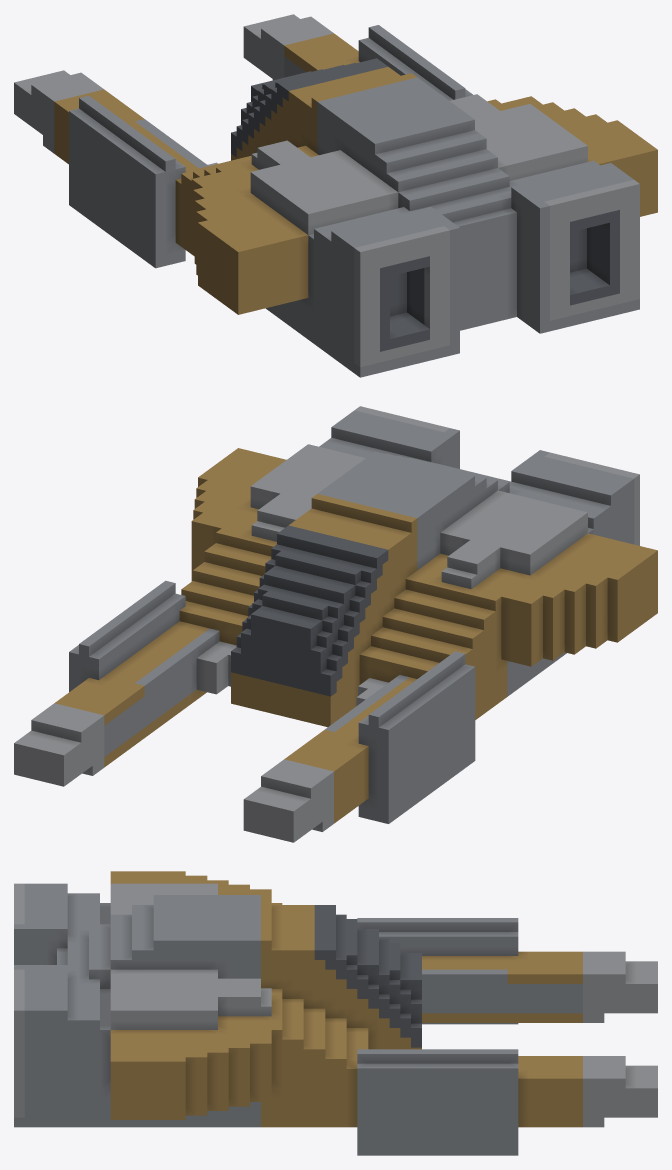
The model's file is miner_ship.glb.
The picture shows the model from 3 angles, top to bottom: view 1: azimuth 30°, elevation 25°; view 2: azimuth 150°, elevation 25°; view 3: azimuth 270°, elevation 25°; orthographic projection. The views are drawn at different scales.
Parts seen in each view (by area): view 1: voxels; view 2: voxels; view 3: voxels.
Part boxes in pixels (bbox=[...]): voxels: bbox=[14, 14, 657, 377]; voxels: bbox=[14, 406, 657, 842]; voxels: bbox=[14, 871, 657, 1155].
Size of the model in its own units: 1.84 by 0.7438 by 2.62.
